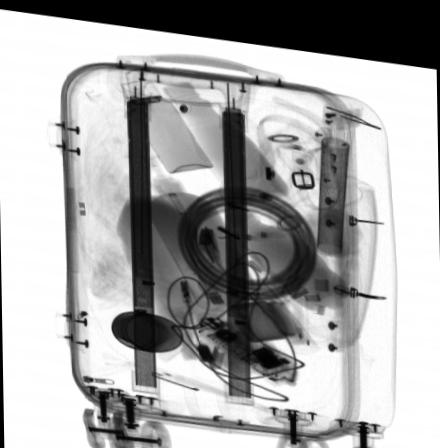Sprayer: (119, 72, 214, 166)
